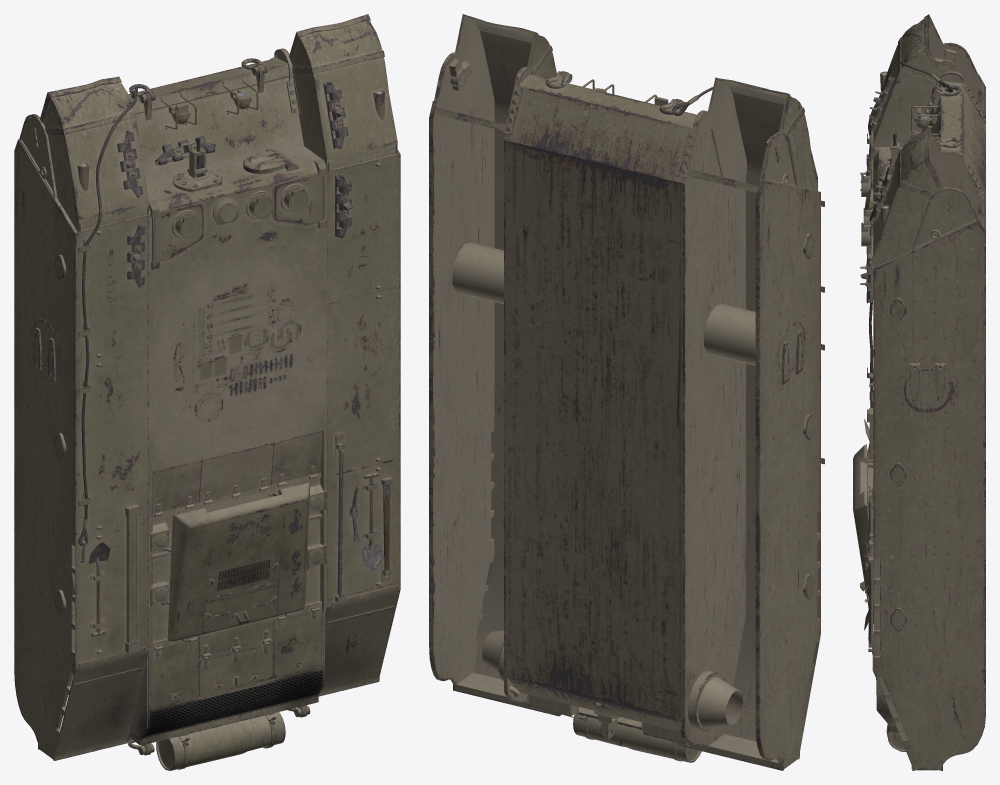
File: Hull.glb
3 views of the same model, side by side, from view 1: azimuth 30°, elevation 25°; view 2: azimuth 150°, elevation 25°; view 3: azimuth 270°, elevation 25° (orthographic). The views are drawn at different scales.
Visible parts, largest first — view 1: set_0_group_0; view 2: set_0_group_0; view 3: set_0_group_0.
Part boxes in pixels (left/top/right/bottom): set_0_group_0: left=14, top=14, right=400, bottom=770; set_0_group_0: left=429, top=14, right=824, bottom=770; set_0_group_0: left=853, top=14, right=985, bottom=770.
Size of the model in its own units: 3.39 by 6.8 by 1.27.
1 material, 1 textured.
